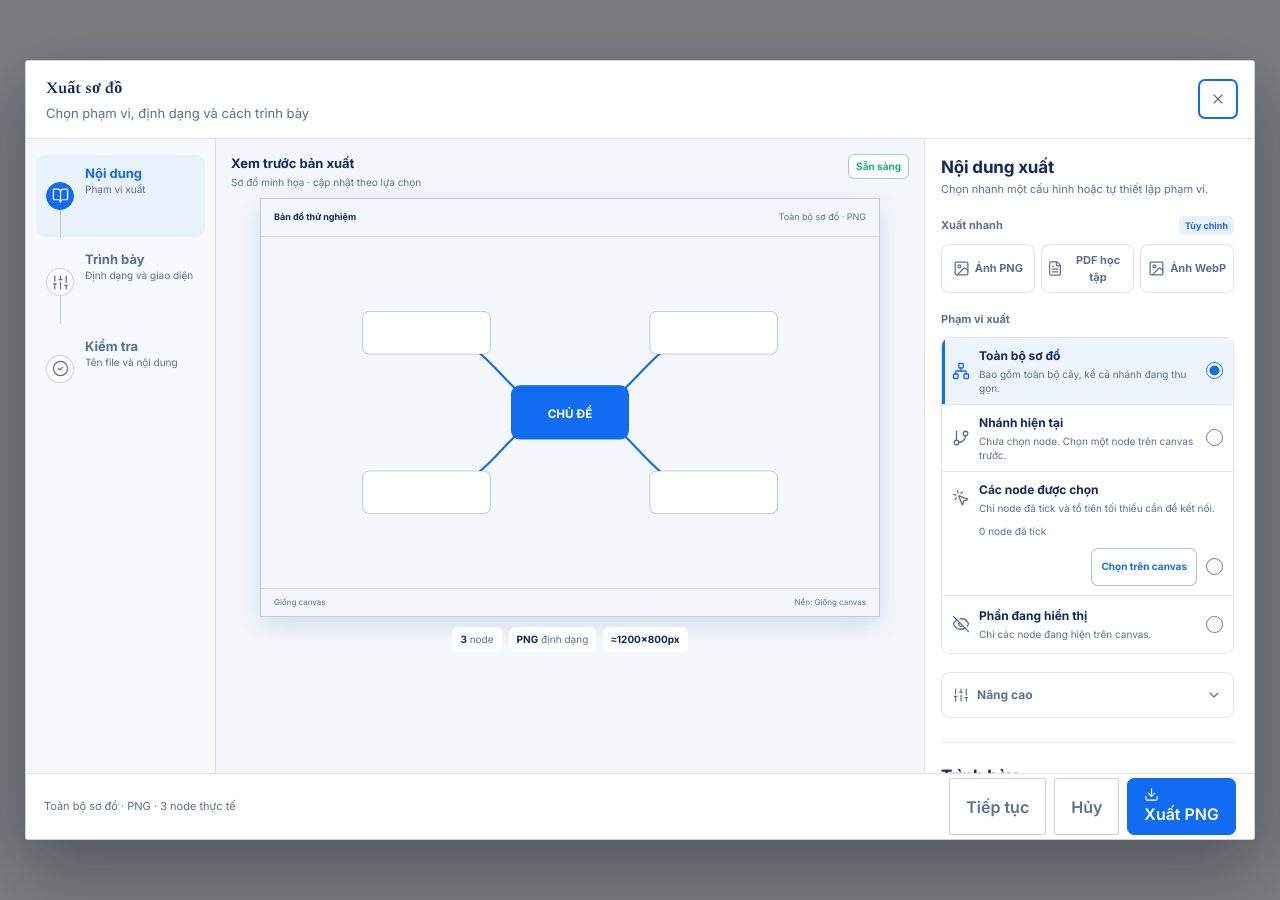
Export Studio UX v2 › shows selected-branch count and prevents continuing until a branch exists
Click the 3rd radio button: (1214, 567) [1206, 558, 1223, 575]
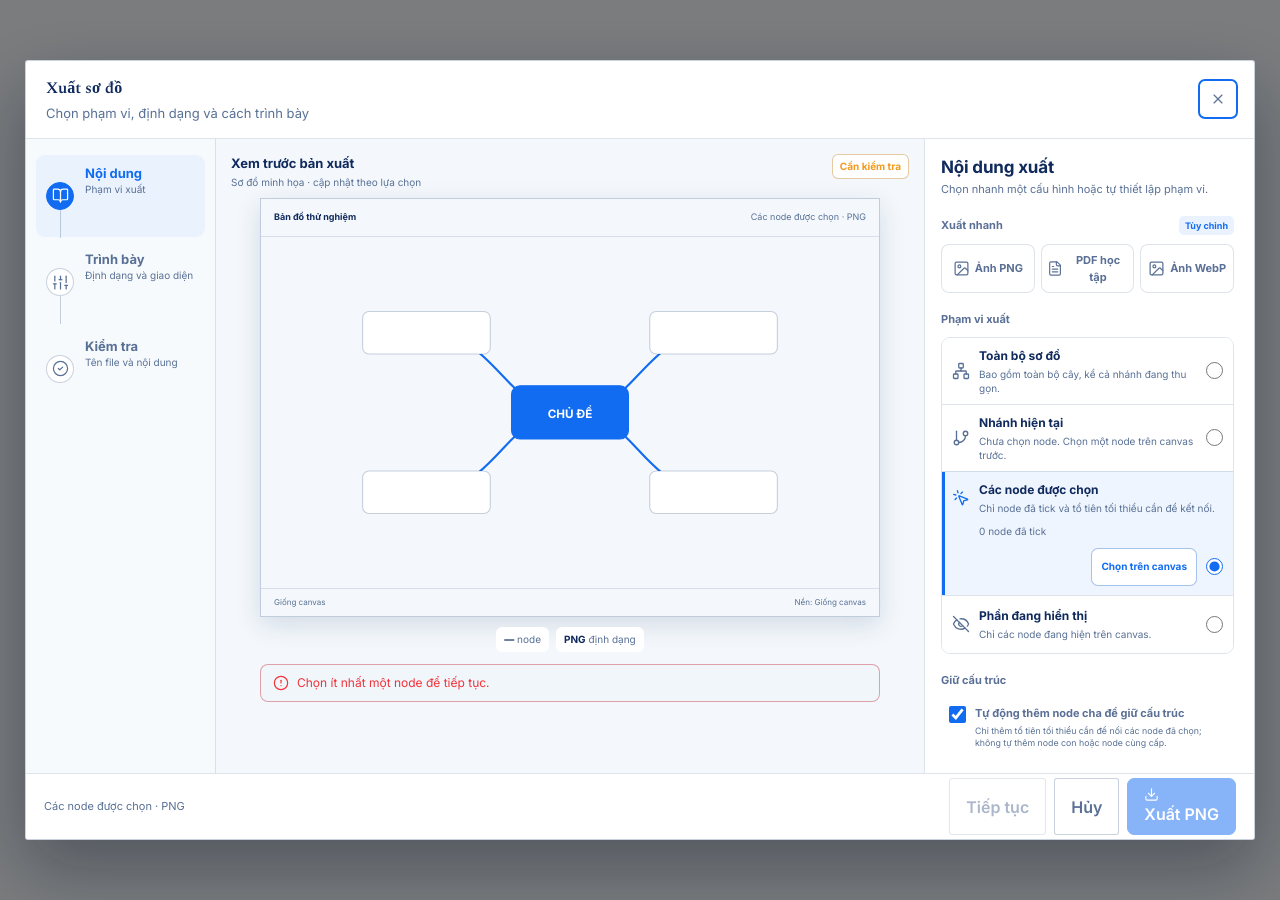
Expected: the button "Chọn trên canvas" is shown, [1092, 548, 1197, 586]
Expected: the button "Xuất PNG" is disabled, [1127, 778, 1236, 835]
